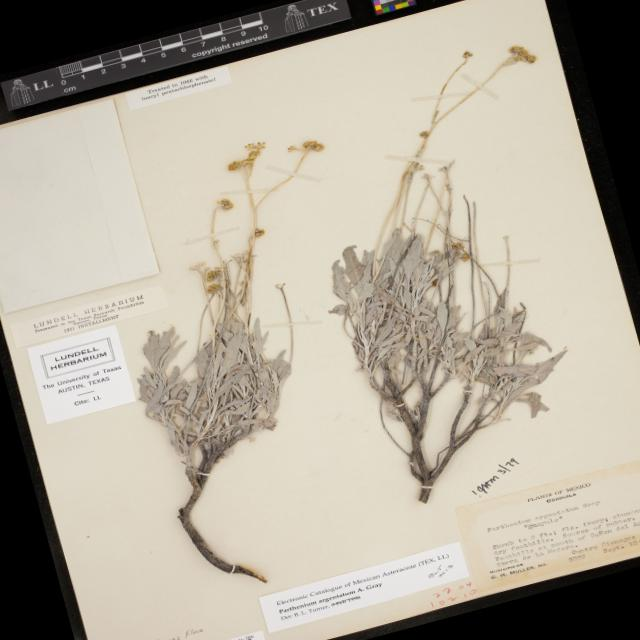Poisonous-Parthenium: (289, 26, 640, 520), (86, 124, 404, 564)
